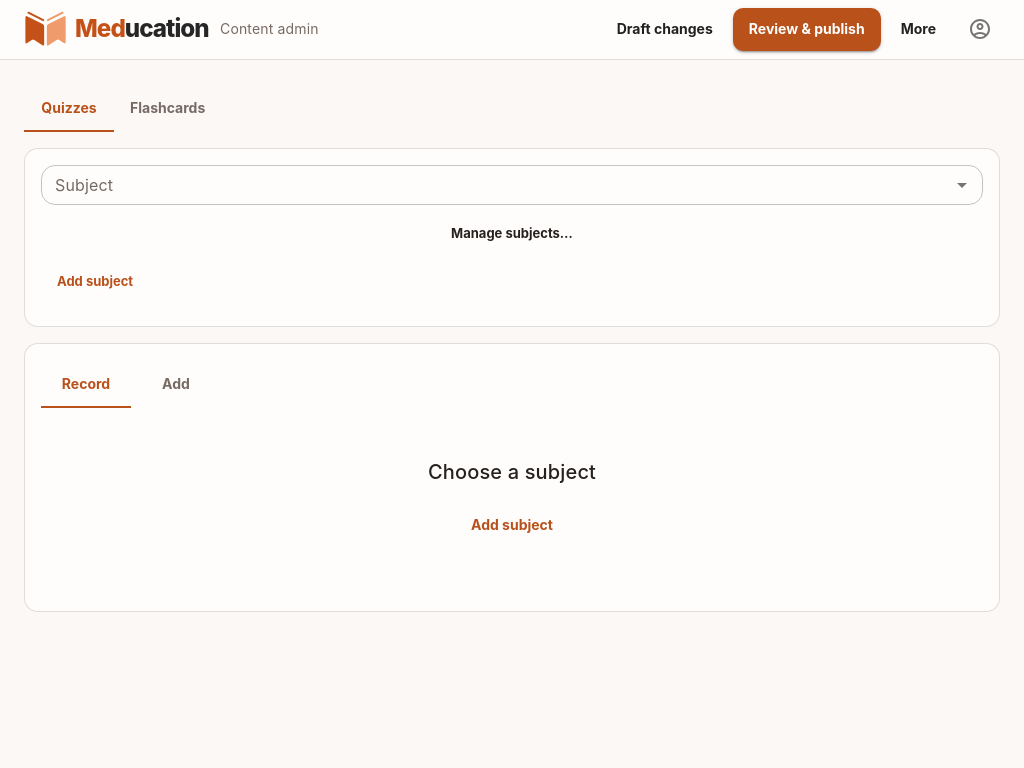
Test: discards unpublished changes after confirmation and shows the published content again
Expected: the tab "Quizzes" is shown, [24, 84, 114, 132]
Click the button "More": (918, 29) [885, 8, 952, 50]
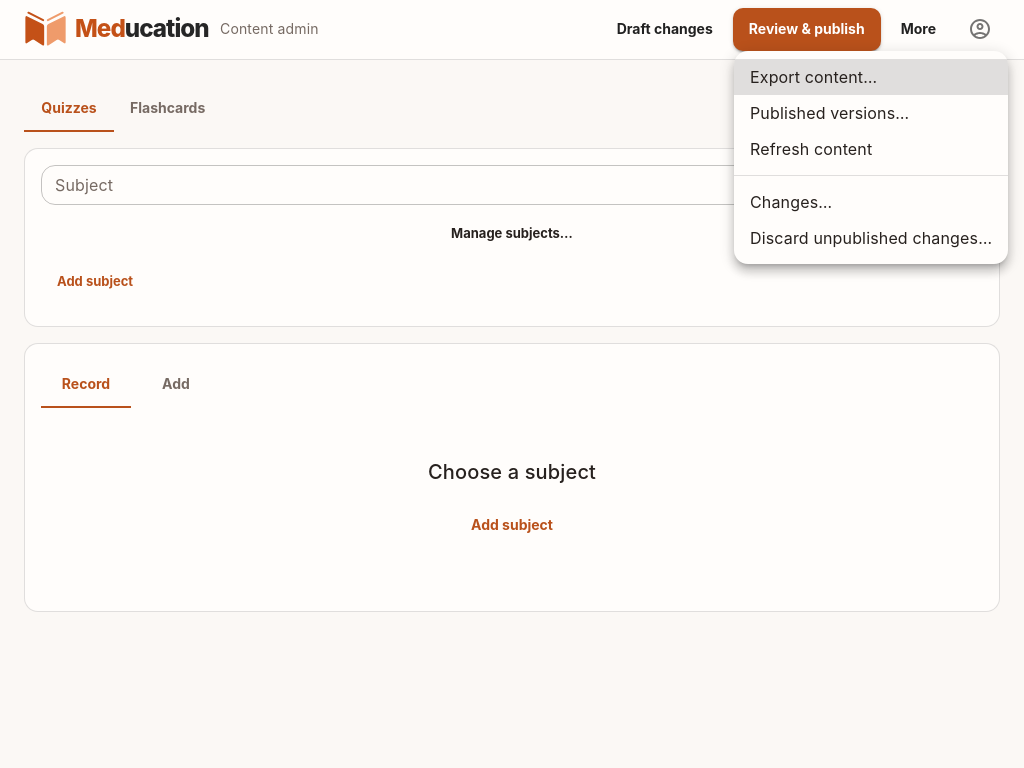
Click the menu item "Discard unpublished changes…": (871, 238) [750, 228, 992, 248]
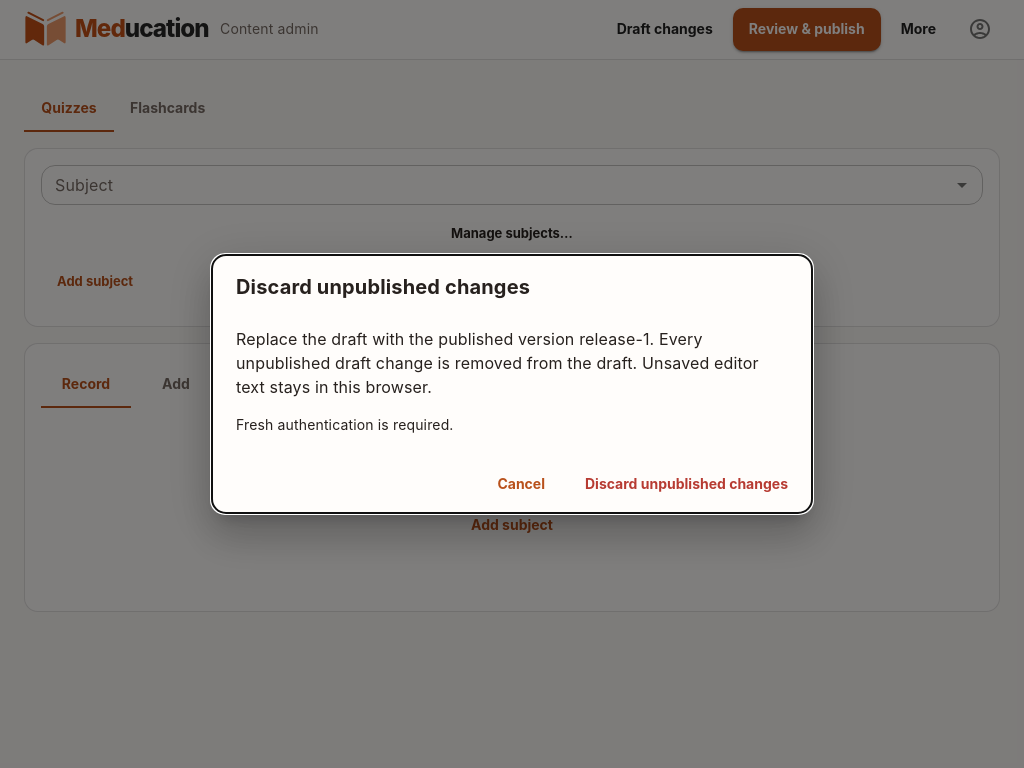
Click the button "Discard unpublished changes": (686, 484) [569, 463, 804, 505]
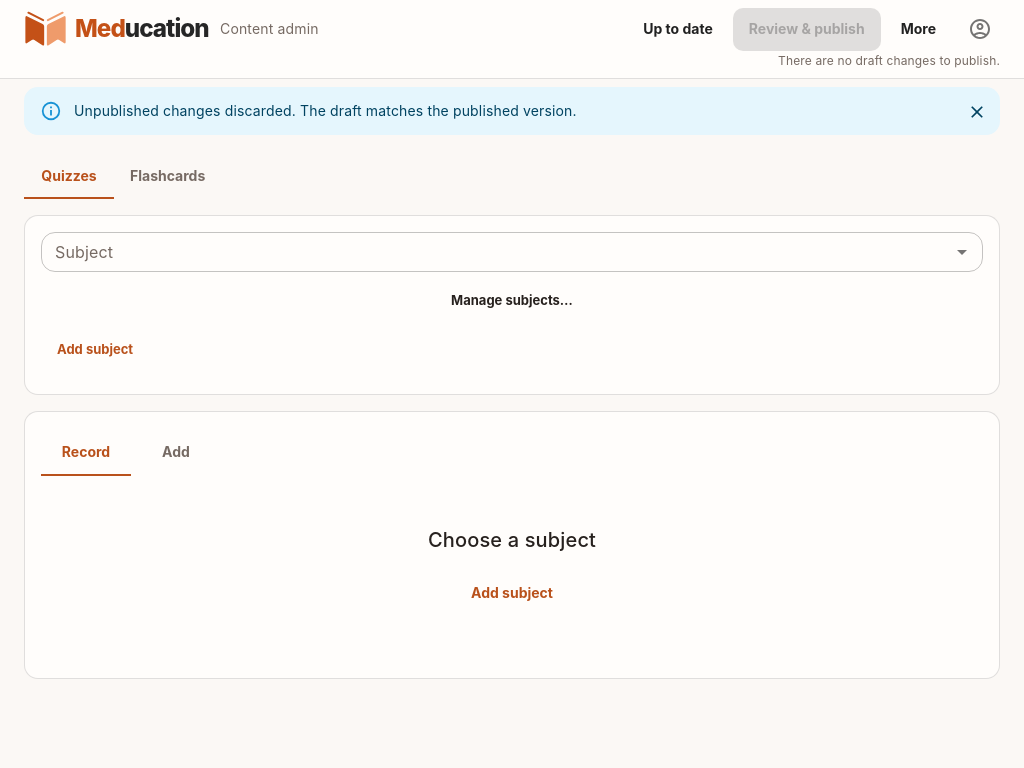
Expected: the text "Unpublished changes discarded" is shown, [74, 102, 577, 119]
